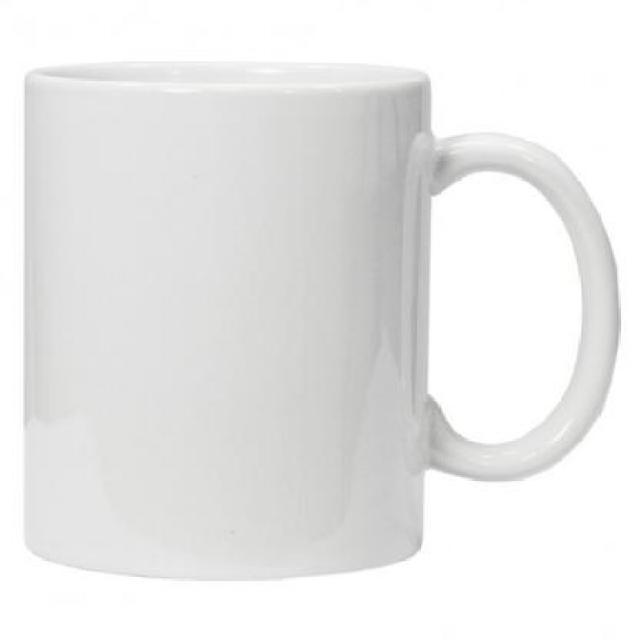taza: (20, 62, 622, 584)
